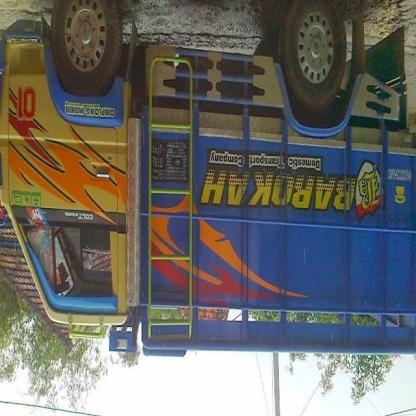truck: (1, 1, 416, 365)
